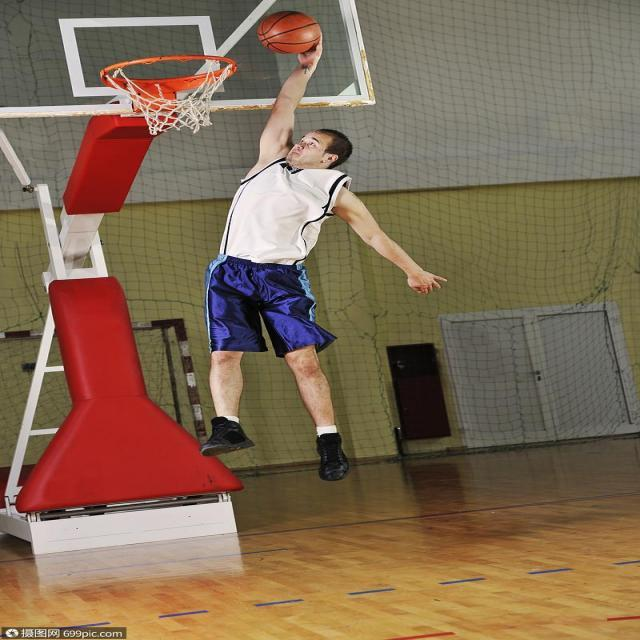rim: (261, 10, 321, 56)
